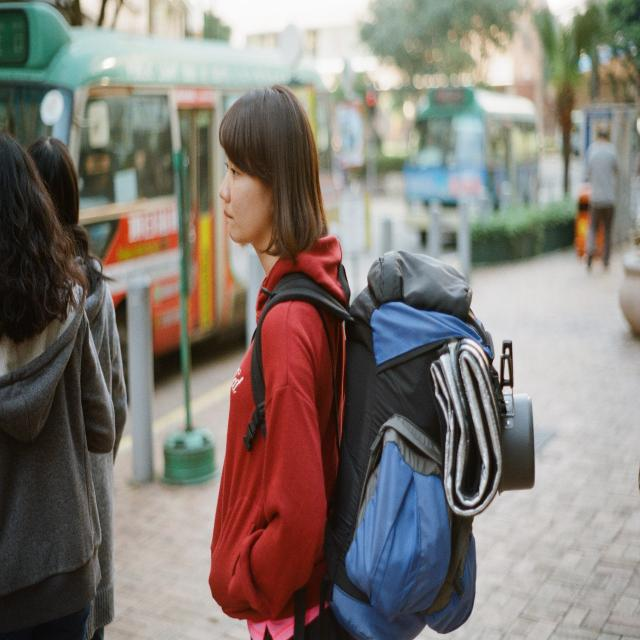backpack: (262, 246, 502, 640)
